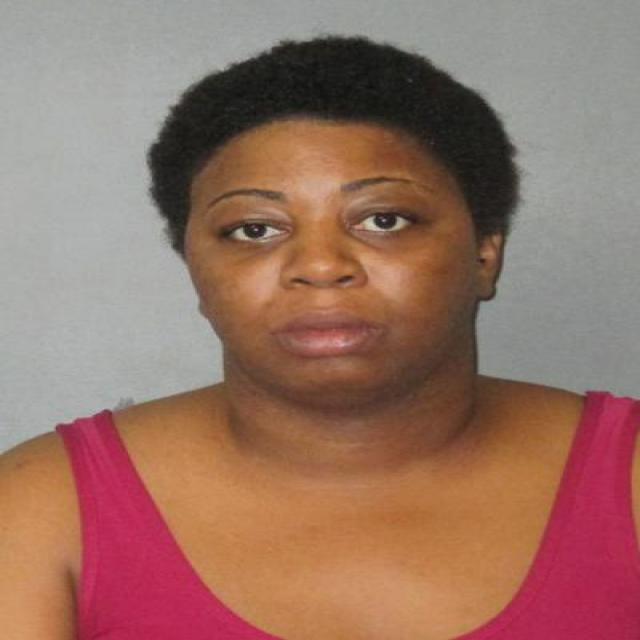mobile_phonerotation: (0, 31, 638, 638)
